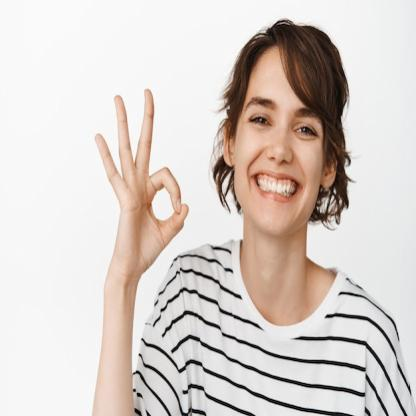ok: (92, 86, 190, 275)
